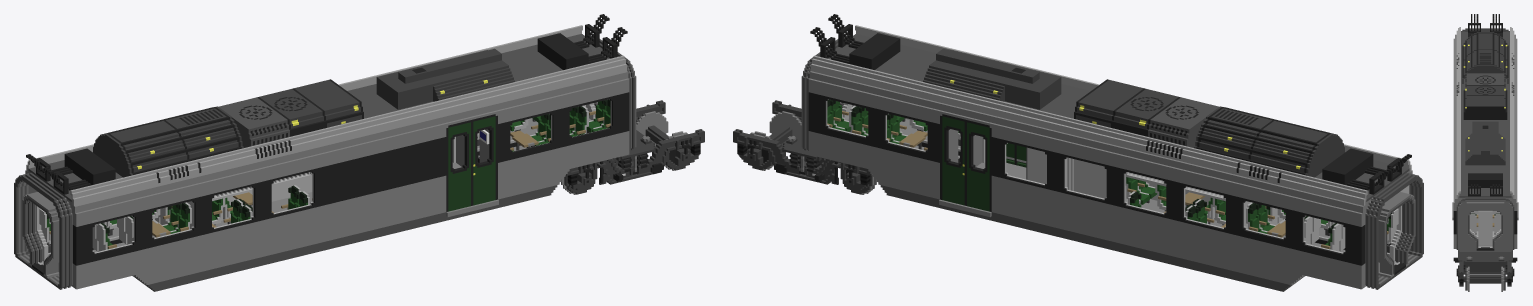
File: mitte.obj
The picture shows the model from 3 angles, left to right: view 1: azimuth 30°, elevation 25°; view 2: azimuth 150°, elevation 25°; view 3: azimuth 270°, elevation 25°; orthographic projection. The views are drawn at different scales.
Visible parts, largest first — view 1: FRAME, BOGEY_REAR, BOGEY_REAR_WHEEL_1; view 2: FRAME, BOGEY_REAR, BOGEY_REAR_WHEEL_1; view 3: FRAME, BOGEY_REAR, BOGEY_REAR_WHEEL_1.
Part boxes in pixels (left/top/right/bottom): FRAME: left=14, top=14, right=636, bottom=291; BOGEY_REAR: left=566, top=100, right=704, bottom=190; BOGEY_REAR_WHEEL_1: left=636, top=111, right=690, bottom=170; FRAME: left=801, top=14, right=1423, bottom=291; BOGEY_REAR: left=733, top=100, right=871, bottom=190; BOGEY_REAR_WHEEL_1: left=747, top=111, right=801, bottom=170; FRAME: left=1452, top=14, right=1518, bottom=251; BOGEY_REAR: left=1453, top=251, right=1517, bottom=286; BOGEY_REAR_WHEEL_1: left=1463, top=266, right=1507, bottom=291.
Size of the model in its own units: 19.62 by 4.5 by 2.88.
1 material, 1 textured.
